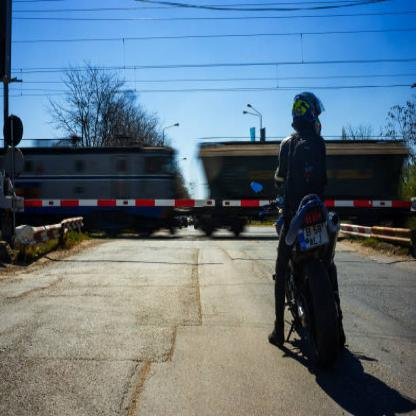Motorcycle: (269, 186, 352, 371)
